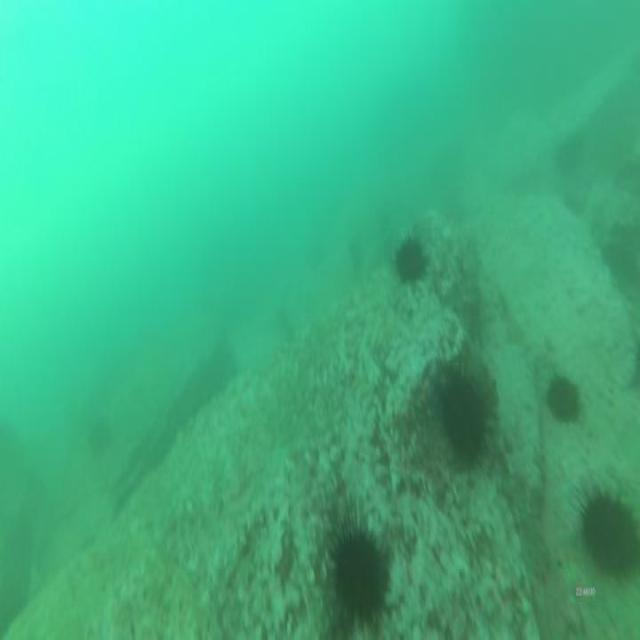echinus: (324, 498, 392, 640), (572, 478, 640, 586), (436, 363, 498, 472), (540, 370, 585, 430), (390, 229, 432, 291)
